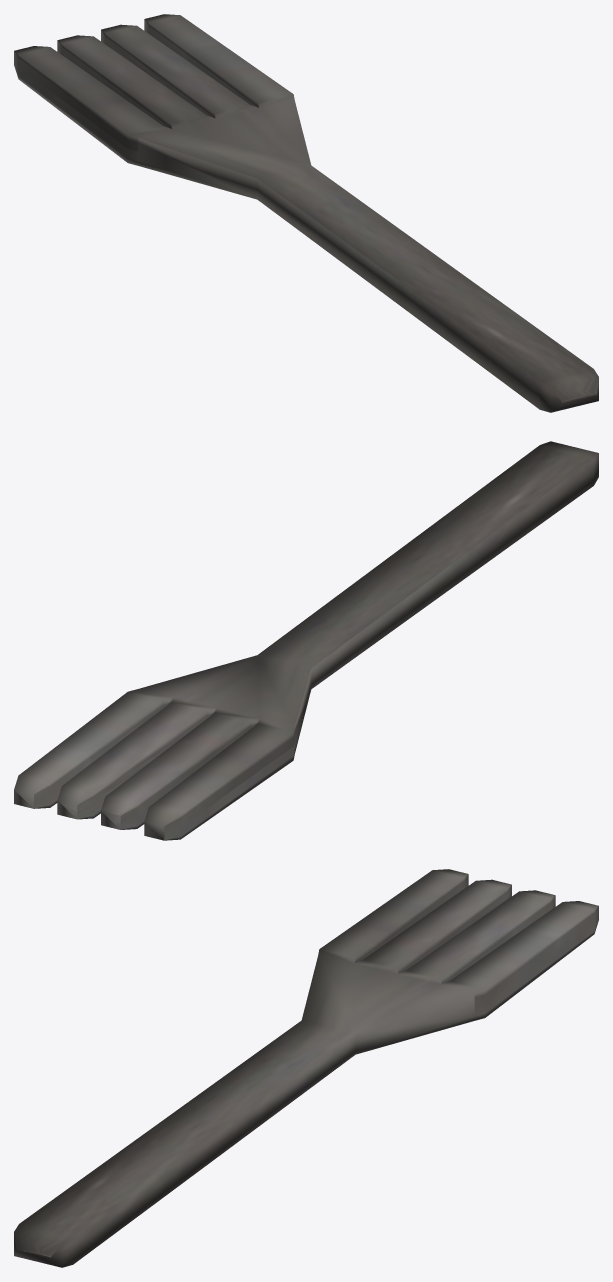
Rendered from Fork.obj.
3 views of the same model, one above another, from view 1: azimuth 30°, elevation 25°; view 2: azimuth 150°, elevation 25°; view 3: azimuth 330°, elevation 25° (orthographic).
Visible parts, largest first — view 1: Fork.obj; view 2: Fork.obj; view 3: Fork.obj.
Part boxes in pixels (box(x1,y1,x2,y2)): Fork.obj: box(14, 14, 598, 412); Fork.obj: box(14, 441, 598, 840); Fork.obj: box(14, 869, 598, 1267).
Size of the model in its own units: 0.7966 by 0.1307 by 4.08.
